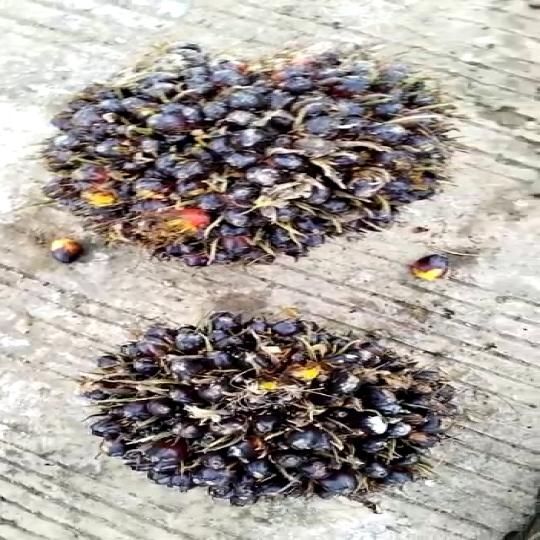mentah: (51, 49, 511, 257), (48, 298, 495, 504)
